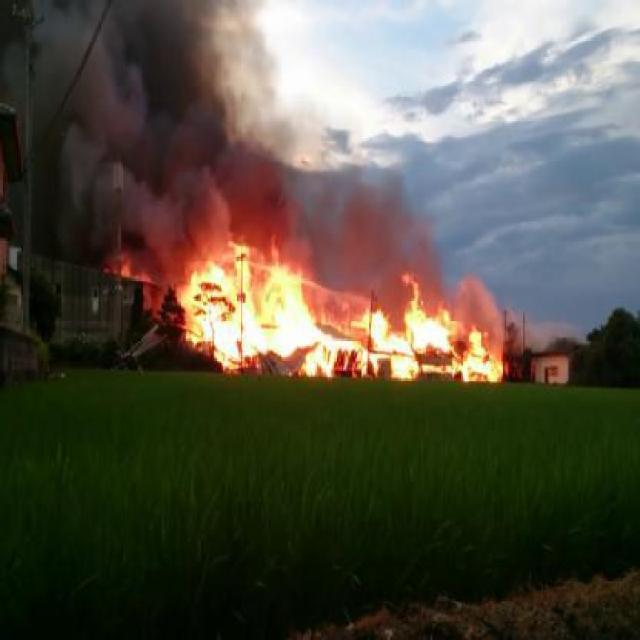Fire: (173, 245, 502, 382), (204, 207, 301, 256), (110, 256, 152, 284), (504, 358, 510, 374)
Smoke: (38, 0, 204, 240), (209, 125, 285, 208), (338, 193, 396, 241)
